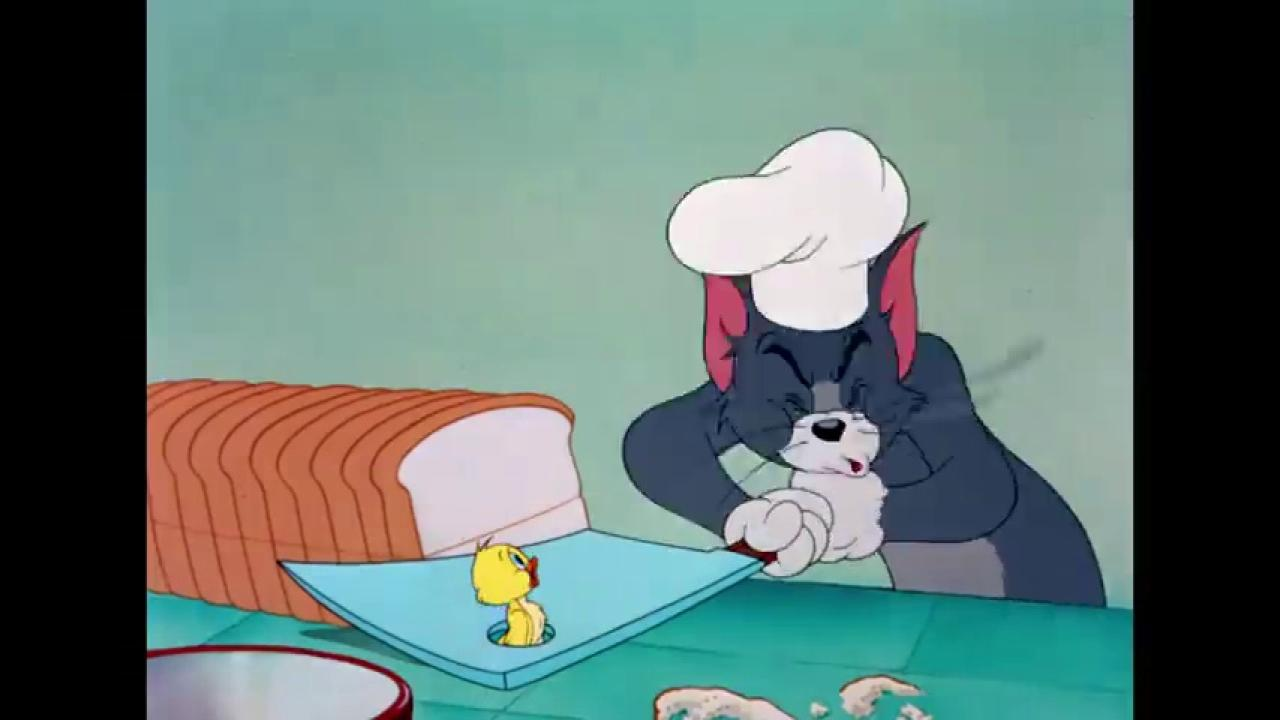Tom: (621, 220, 1107, 607)
